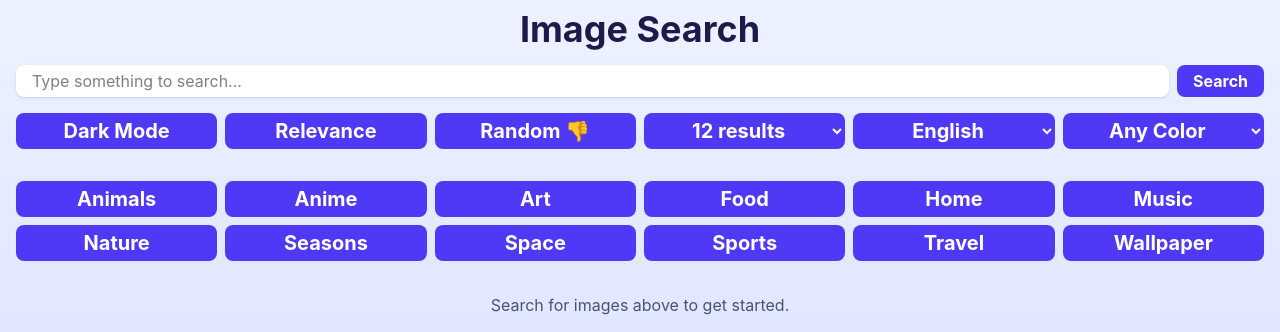
Home page integration › shows an error message when the API returns an error
Type "nature" into the search field. click: point(592, 81)
box: [16,65,1169,97]
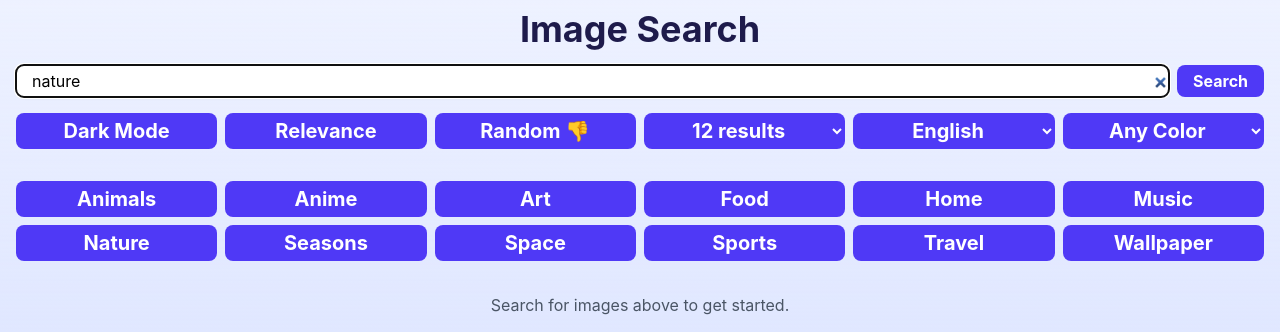
Click the button "Search". click: point(1220, 81)
box: [1177,65,1264,97]
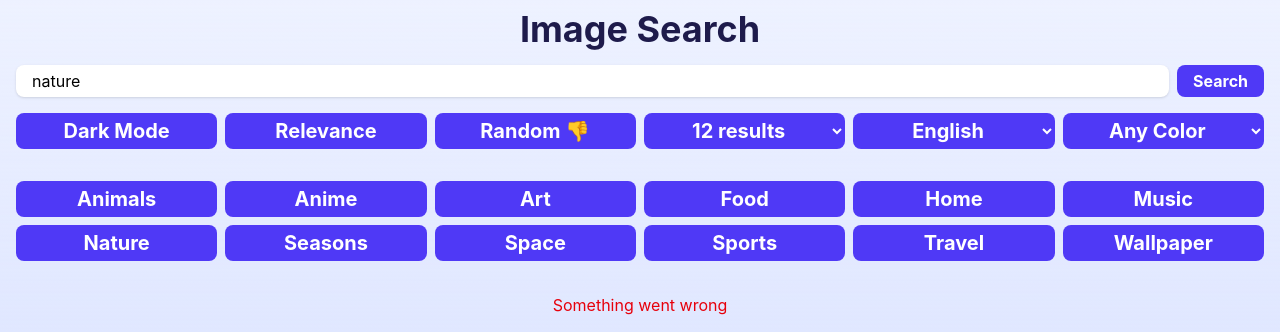
Check: the text "Something went wrong" is shown, box [553,295,727,315]
